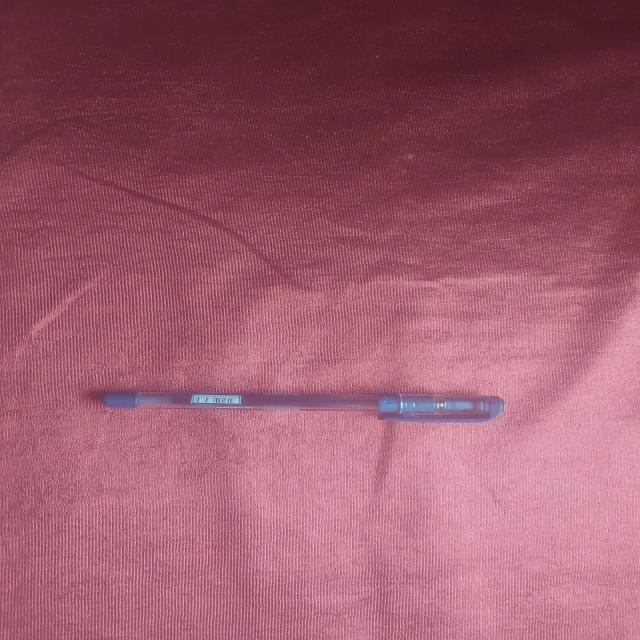blessing_card: (101, 383, 522, 427)
